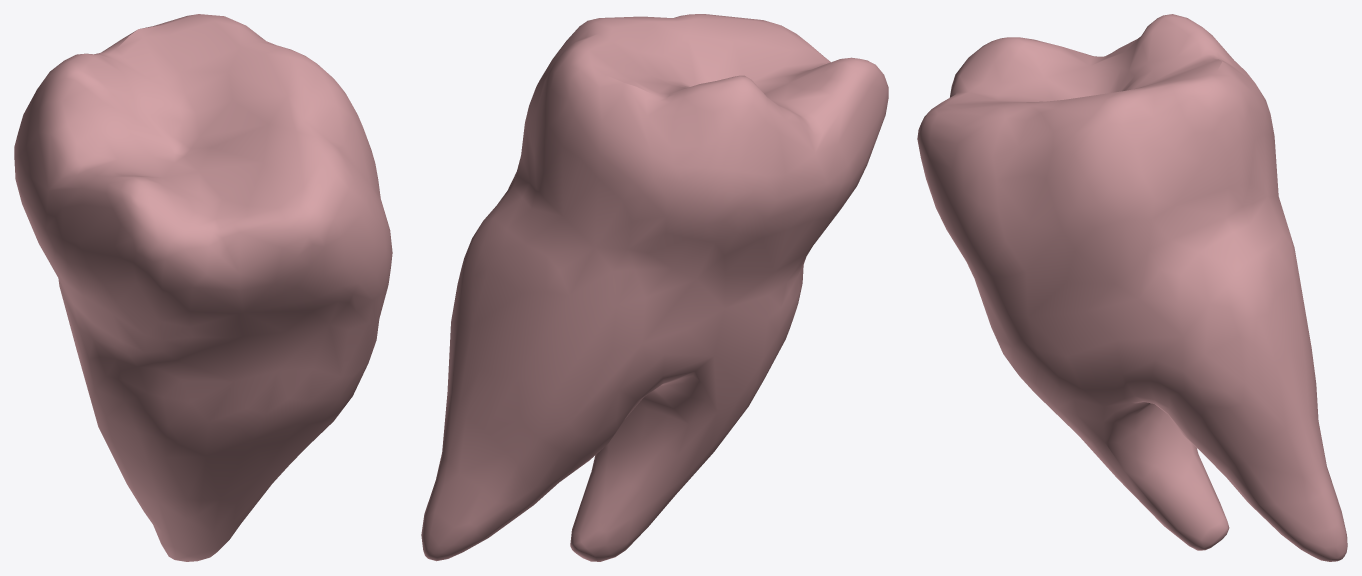
File: fma55704_mm820.glb
The picture shows the model from 3 angles, left to right: view 1: azimuth 30°, elevation 25°; view 2: azimuth 150°, elevation 25°; view 3: azimuth 270°, elevation 25°; orthographic projection. The views are drawn at different scales.
Parts seen in each view (by area): view 1: FMA55704_MM820; view 2: FMA55704_MM820; view 3: FMA55704_MM820.
Boxes of the visible parts, bbox=[...] form: FMA55704_MM820: bbox=[14, 14, 392, 561]; FMA55704_MM820: bbox=[421, 14, 888, 561]; FMA55704_MM820: bbox=[917, 14, 1347, 561].
Size of the model in its own units: 0.0114 by 0.0175 by 0.0144.
